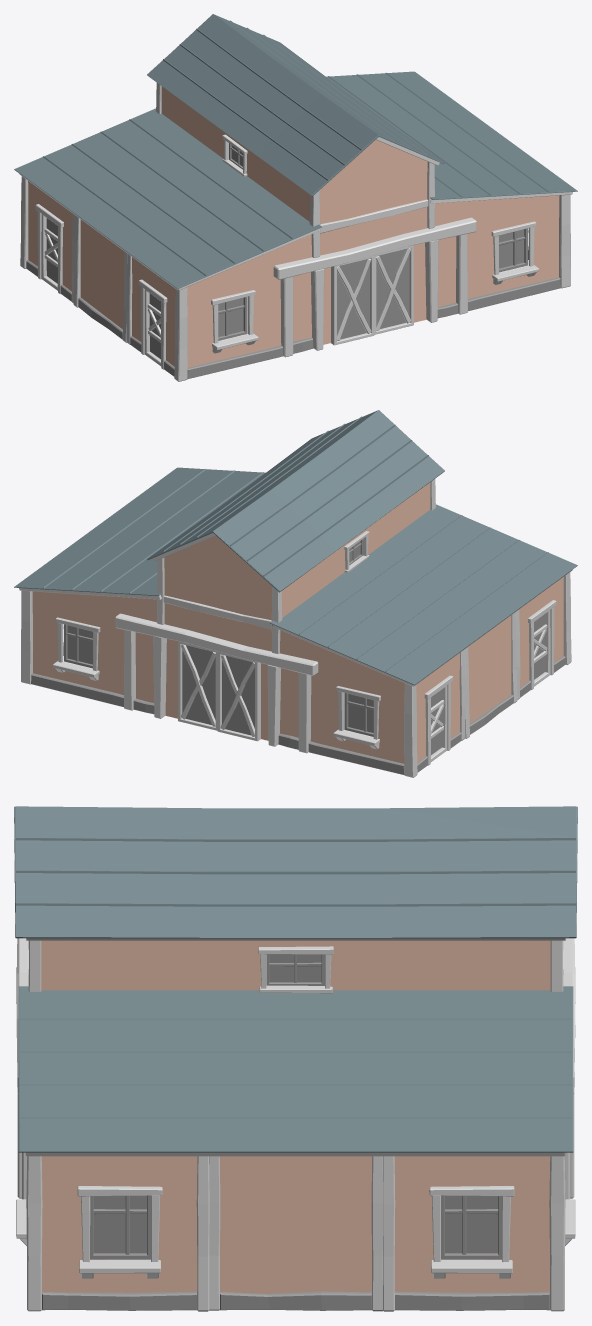
File: fp_barn_silo.glb
3 renders of one model, top to bottom at view 1: azimuth 30°, elevation 25°; view 2: azimuth 150°, elevation 25°; view 3: azimuth 270°, elevation 25°, orthographic. The views are drawn at different scales.
Size of the model in its own units: 2.1 by 1.01 by 1.5.
